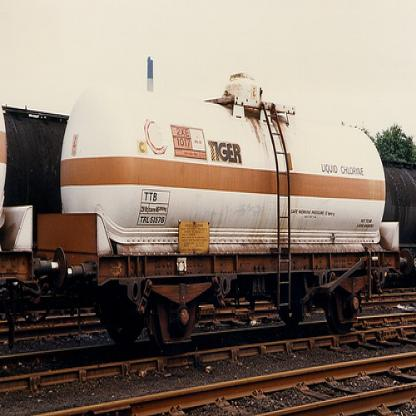train: (3, 68, 401, 353)
